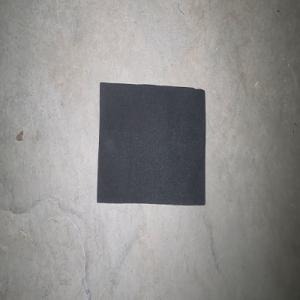PaintChip: (96, 82, 206, 205)
